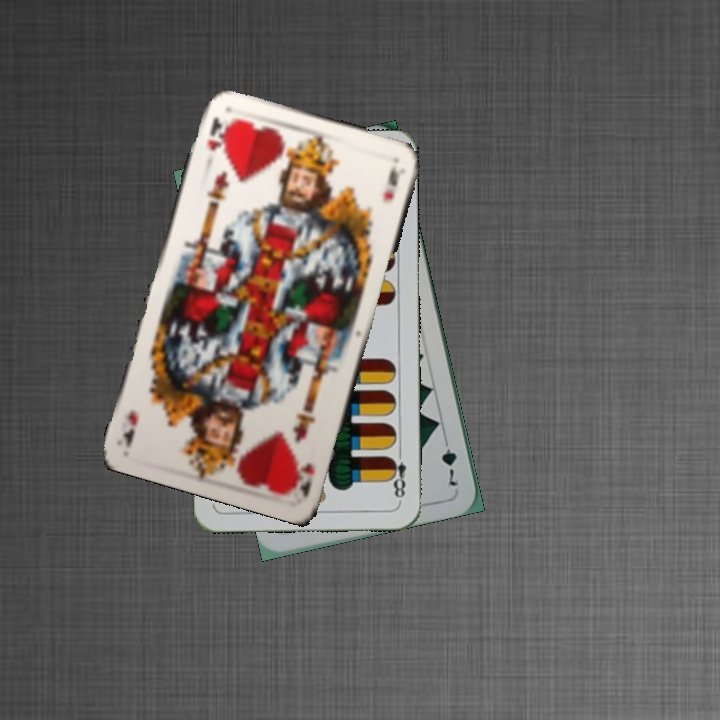E8: (385, 445, 409, 504)
G7: (437, 432, 461, 489)
HK: (203, 112, 232, 154), (290, 458, 317, 500)
